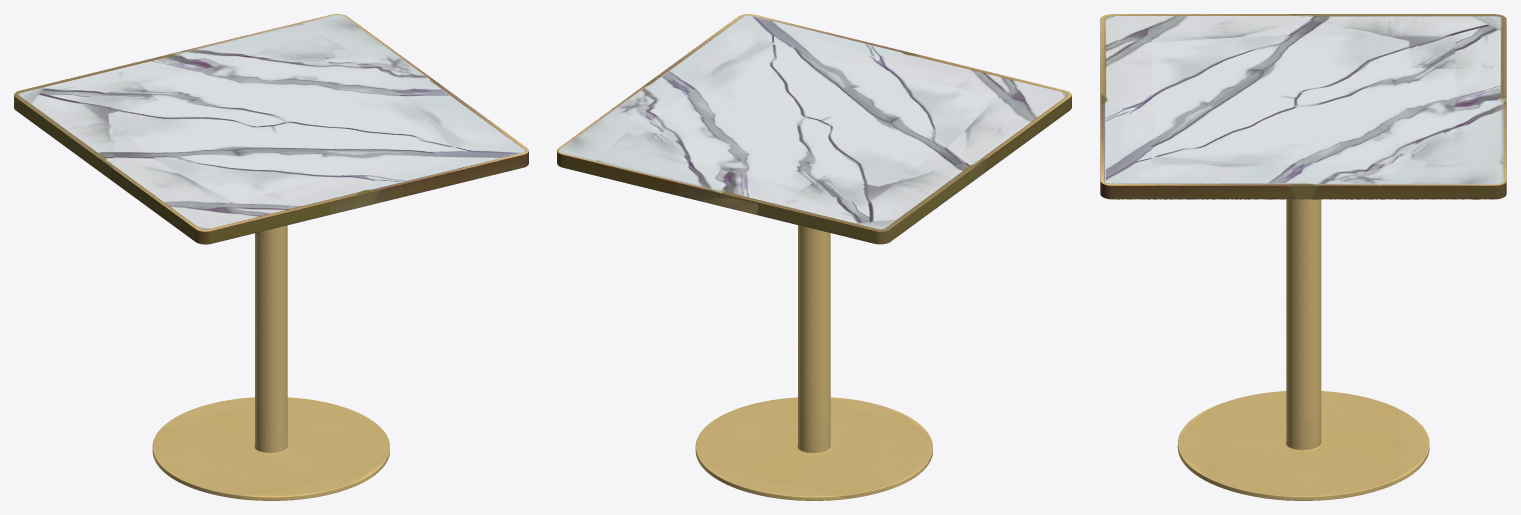
The model's file is 2-4-seat-compact-square-tulip-dining-table.glb.
3 views of the same model, side by side, from view 1: azimuth 30°, elevation 25°; view 2: azimuth 150°, elevation 25°; view 3: azimuth 270°, elevation 25° (orthographic). The views are drawn at different scales.
Parts seen in each view (by area): view 1: Mesh_0; view 2: Mesh_0; view 3: Mesh_0.
Boxes of the visible parts, x1,y1,x2,y2 form: Mesh_0: (14, 14, 528, 500); Mesh_0: (557, 14, 1071, 500); Mesh_0: (1100, 14, 1506, 500).
Size of the model in its own units: 0.8 by 0.7565 by 0.8.
1 material, 1 textured.
